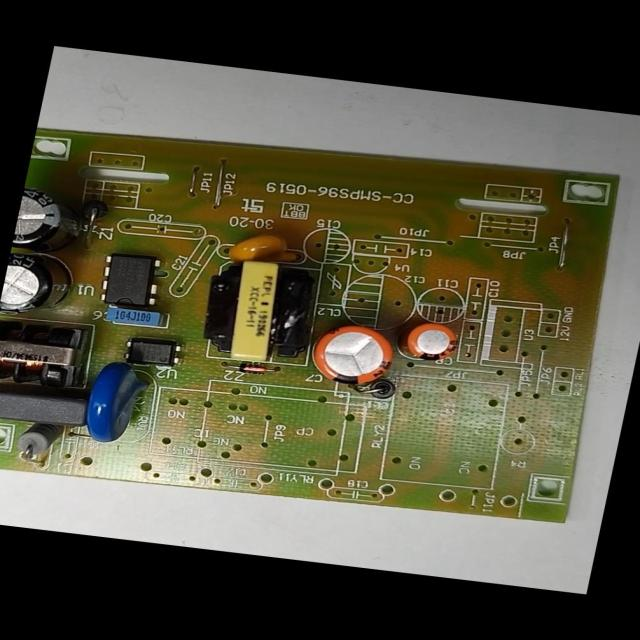Cap1: (307, 321, 404, 390)
Cap2: (399, 320, 464, 363)
Cap3: (0, 248, 76, 319)
Cap4: (11, 184, 86, 255)
MOSFET: (97, 251, 169, 309)
Mov: (79, 359, 153, 447)
Resistor: (10, 422, 68, 464)
Transformer: (192, 254, 325, 366), (0, 316, 90, 393)
